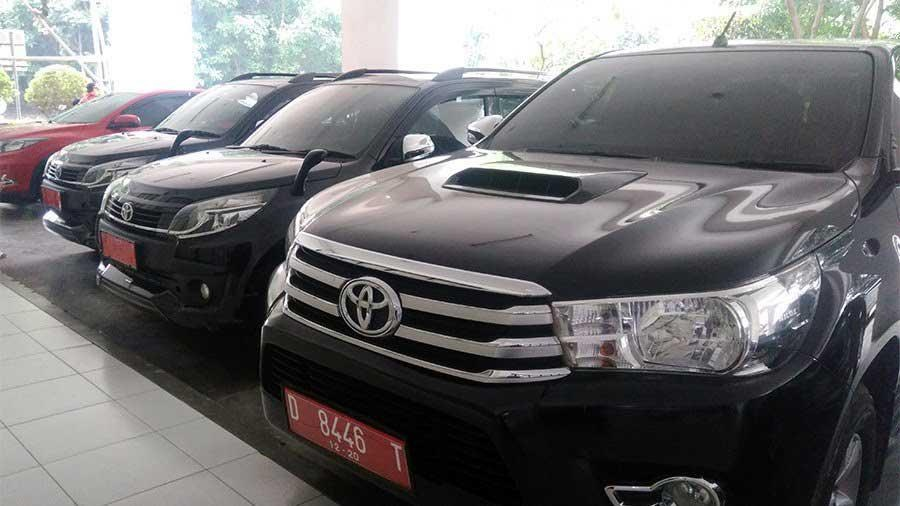plate: (280, 386, 413, 500)
